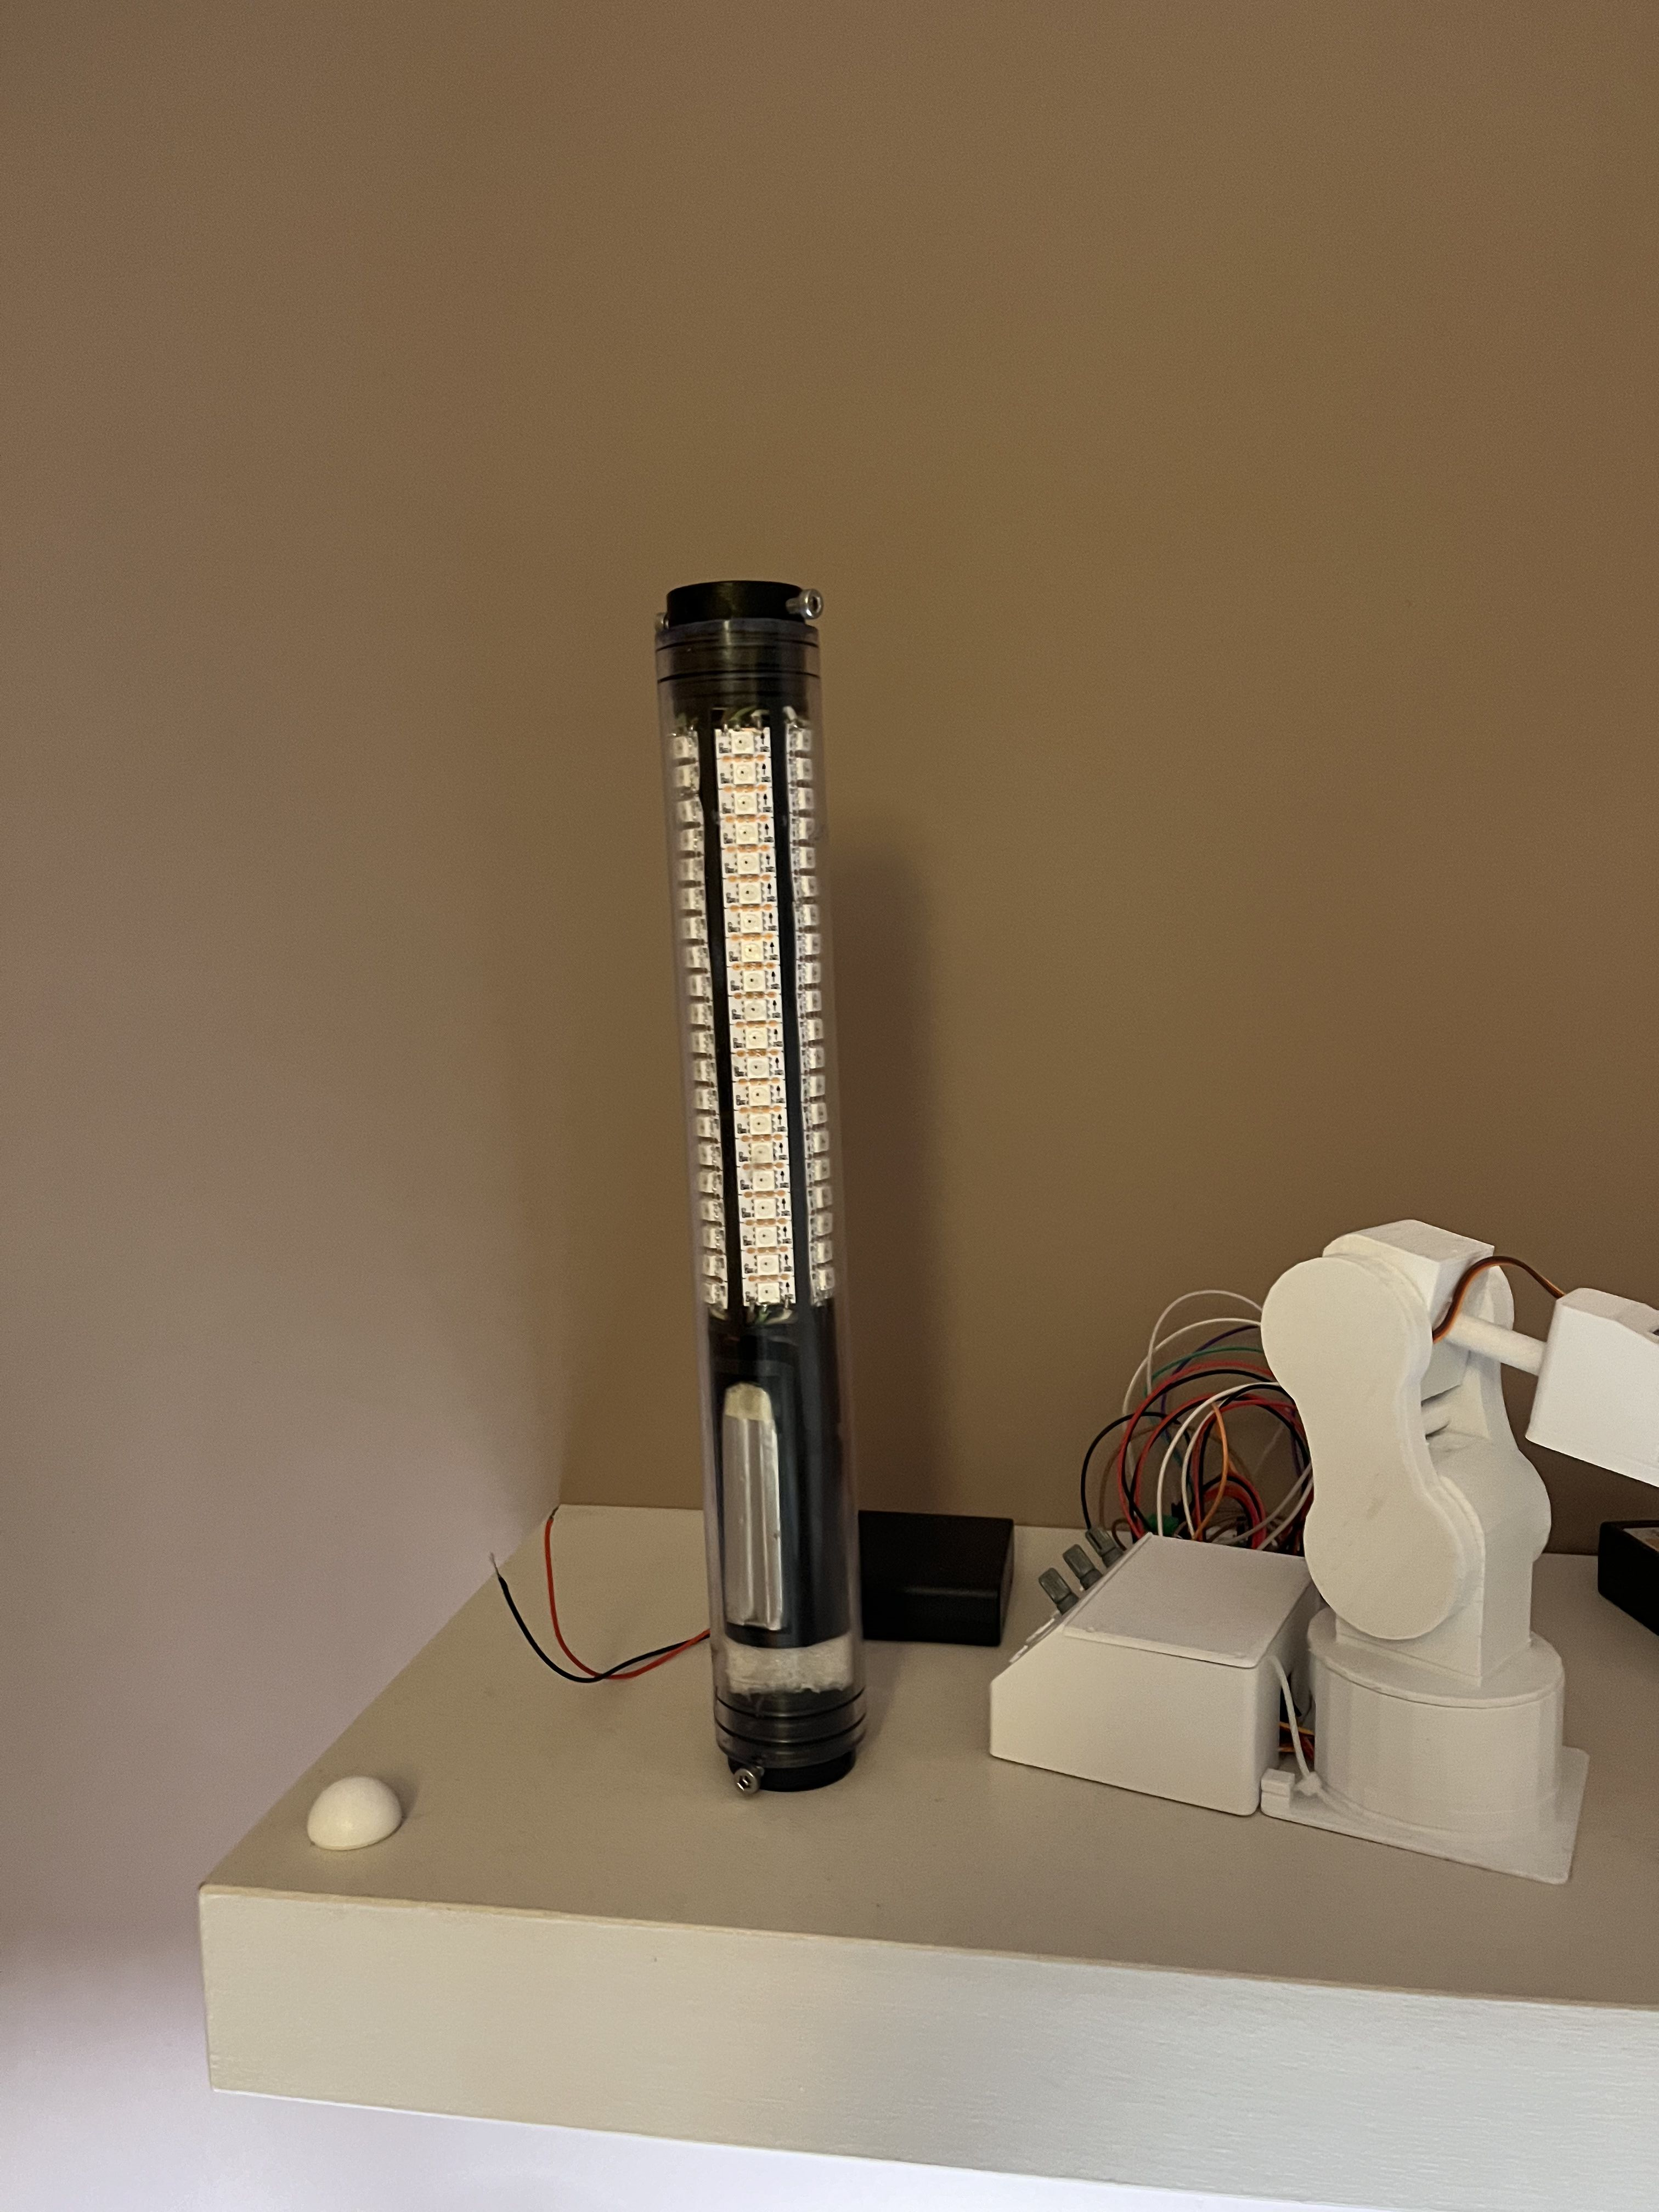black: (662, 629, 859, 1785)
